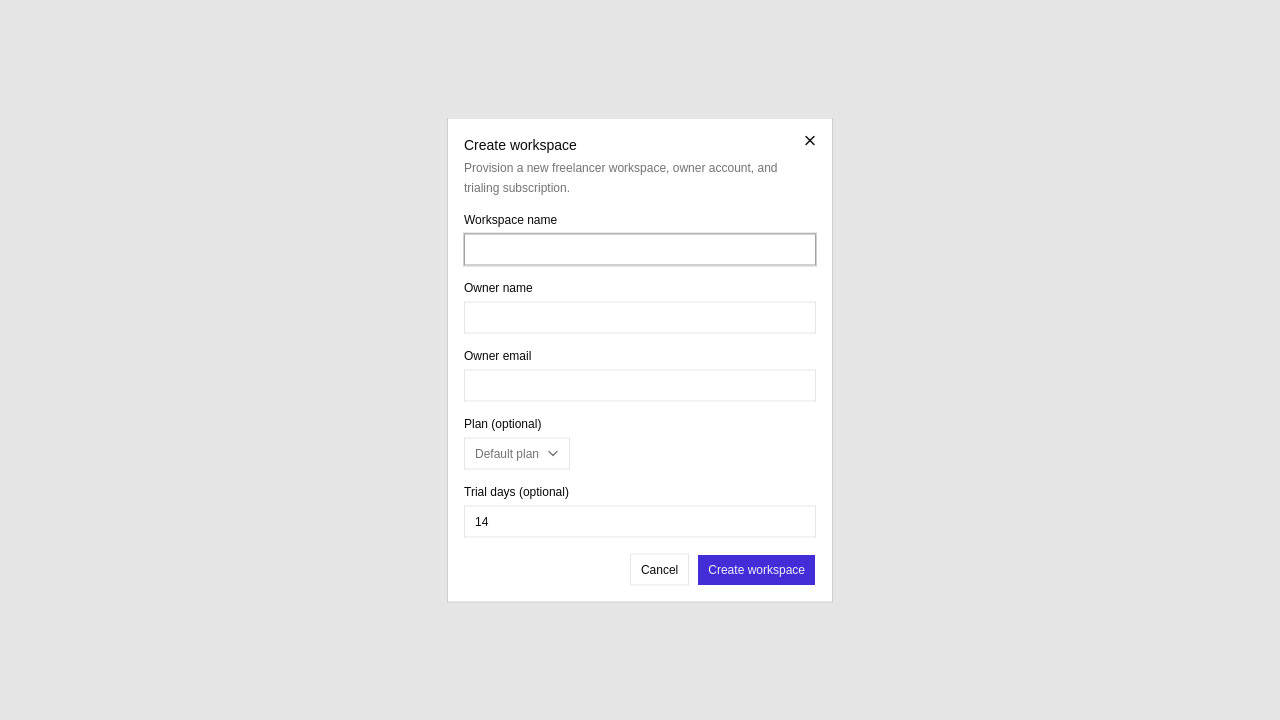
Test: CreateFreelancerDialog › maps 422 validation errors to form fields
This screenshot has width=1280, height=720.
Type "Duplicate Studio" into the field labelled "Workspace name" at (640, 250), box [464, 234, 816, 266]
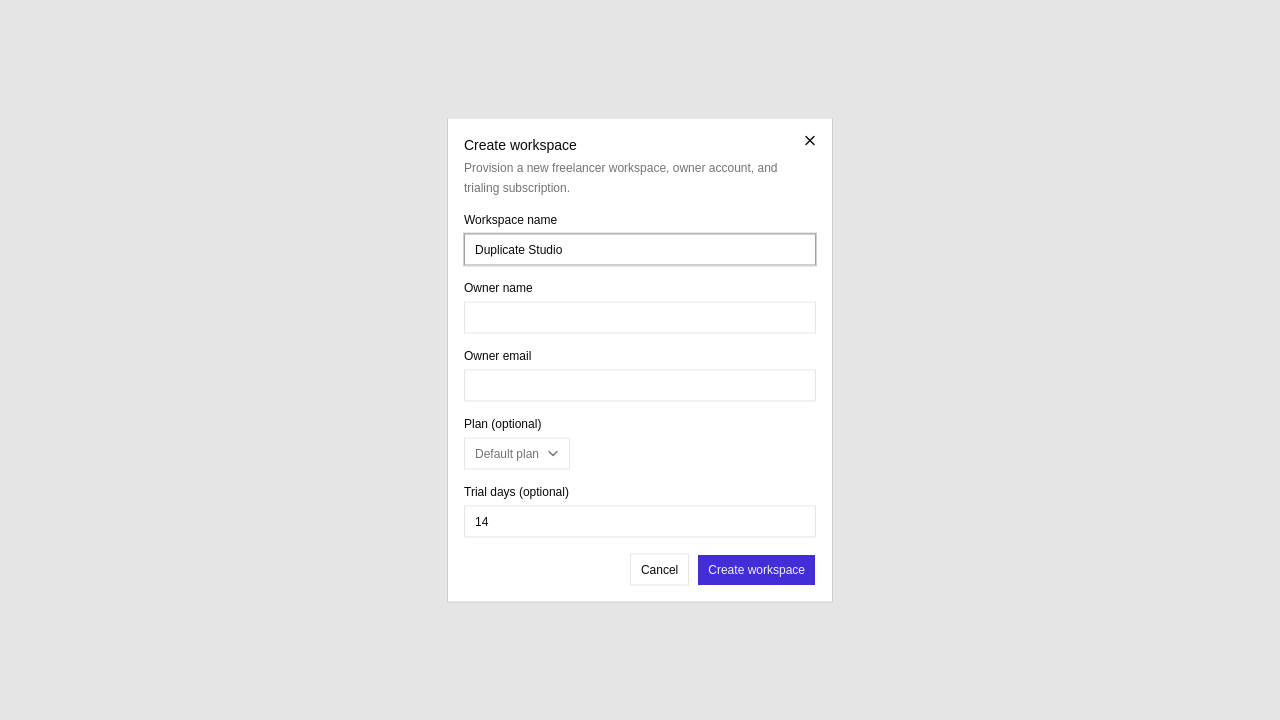
Type "Duplicate Owner" into the field labelled "Owner name" at (640, 318), box [464, 302, 816, 334]
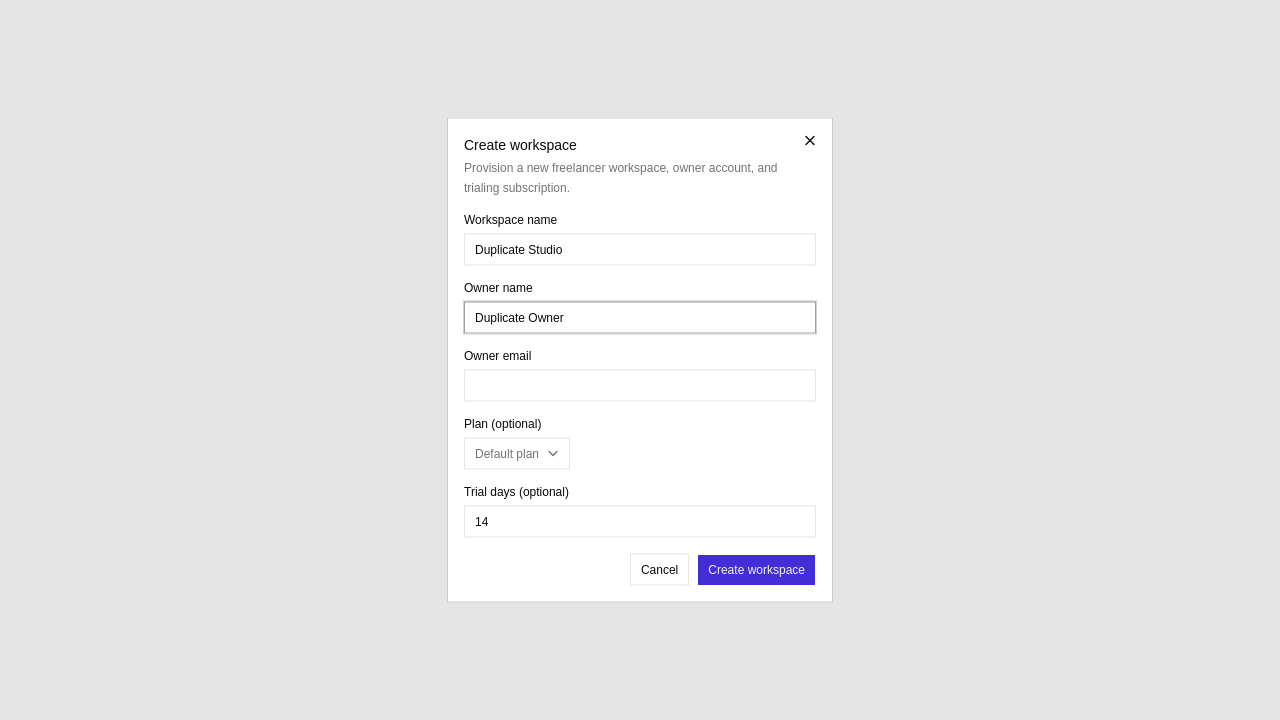
Type "duplicate@studio.test" into the field labelled "Owner email" at (640, 386), box [464, 370, 816, 402]
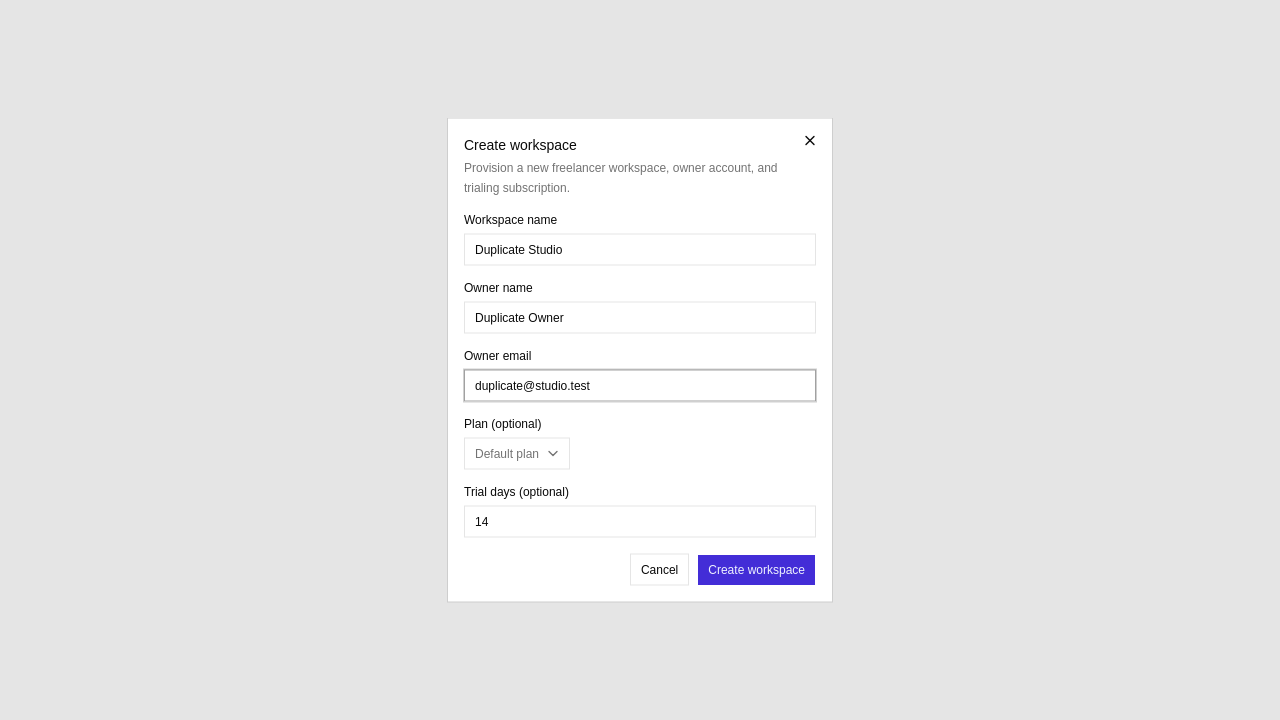
Click the button "Create workspace" at (757, 570), box [697, 554, 816, 586]
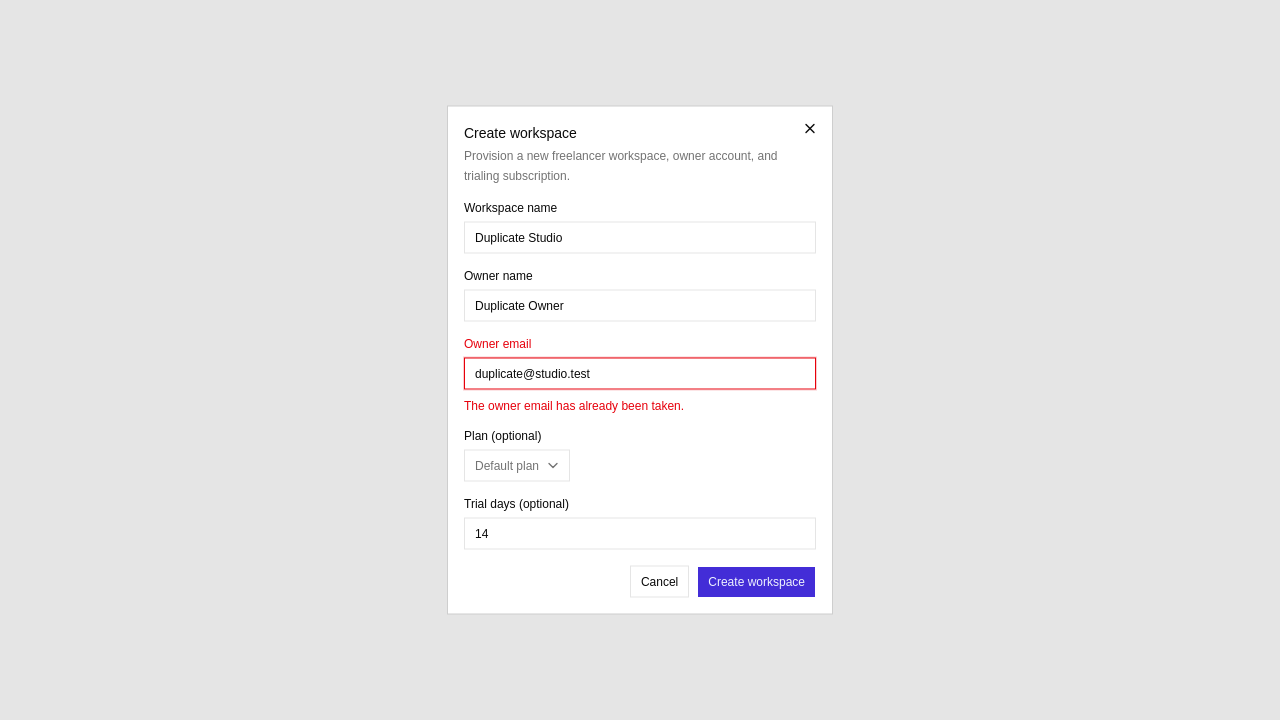
Expected: the text "The owner email has already been taken." is shown, [464, 398, 684, 412]
